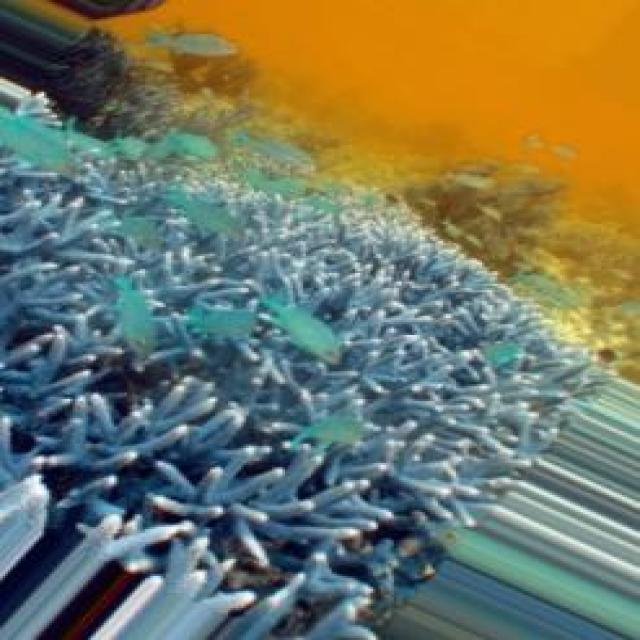Healthy: (1, 106, 612, 640)
